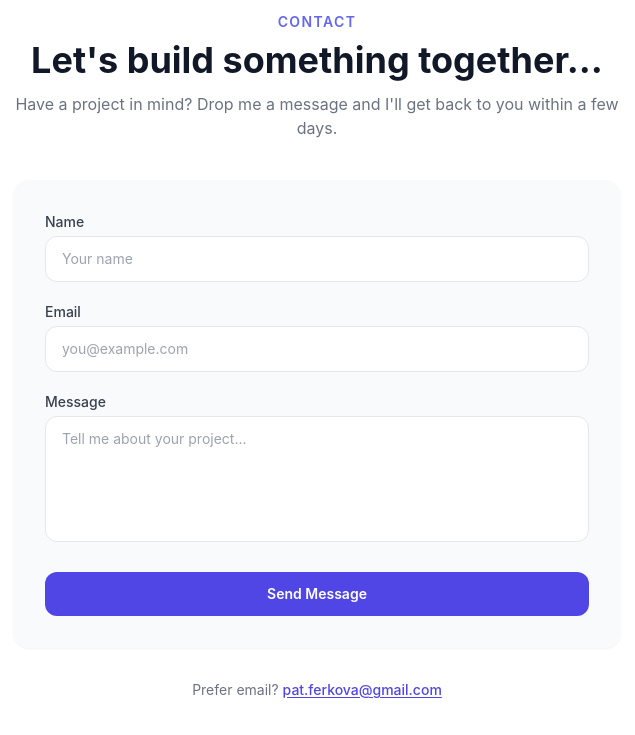
Test: ContactSection › shows inline error for invalid email without clearing other fields
This screenshot has width=635, height=735.
Step 1. Type "Alex" into the field labelled "Name" → [317, 259], box [45,236,589,282]
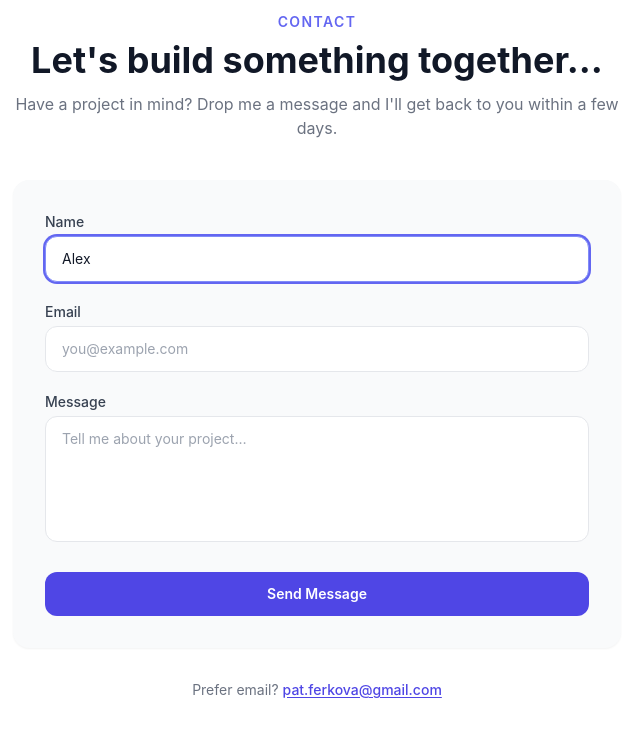
Step 2. Type "not-an-email" into the field labelled "Email" → [317, 349], box [45,326,589,372]
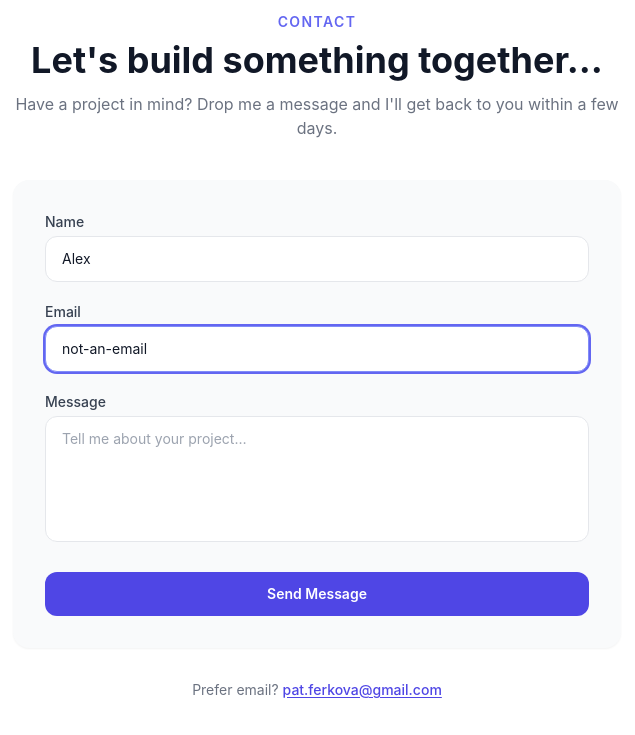
Step 3. Type "Hello there" into the text box labelled "Message" → [317, 479], box [45,416,589,542]
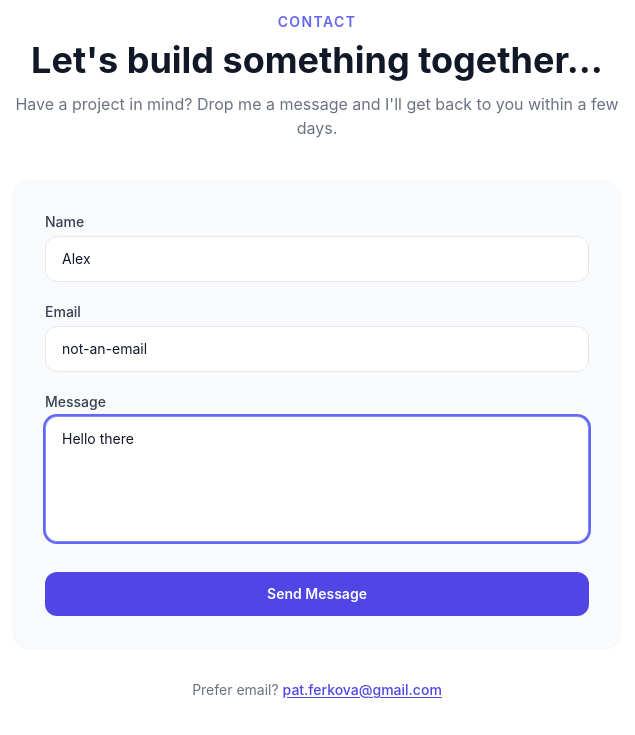
Step 4. Click the button "Send Message" → [317, 594], box [45,572,589,616]
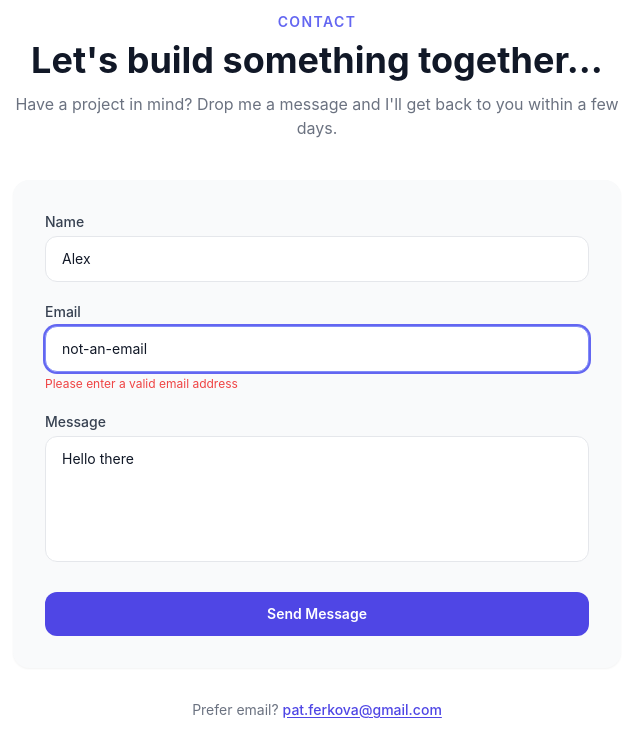
expect the text "Please enter a valid email address" is shown: met, box [45,376,238,391]
